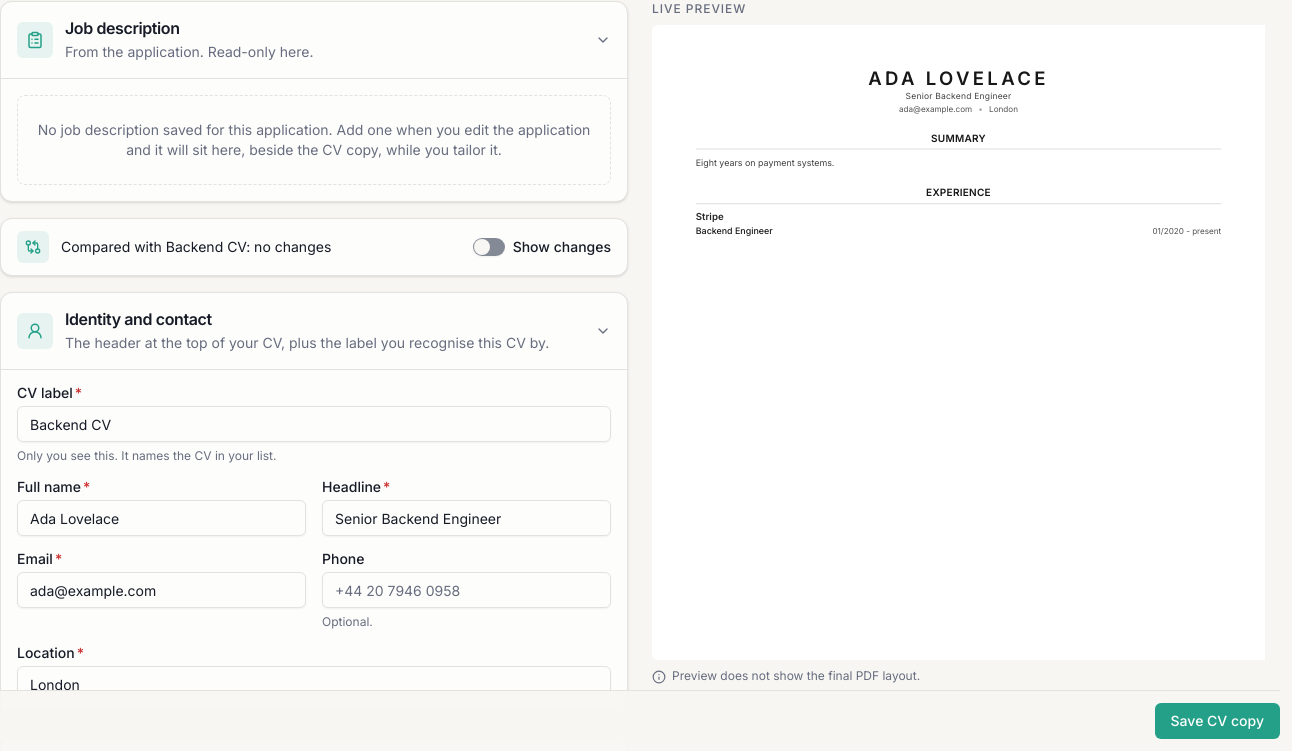
it: the diff UI › shows an Added badge for a new experience row and a section count
Click the switch named "Show changes": click(489, 247) top-left (473, 238), bottom-right (505, 256)
(page scrolled)
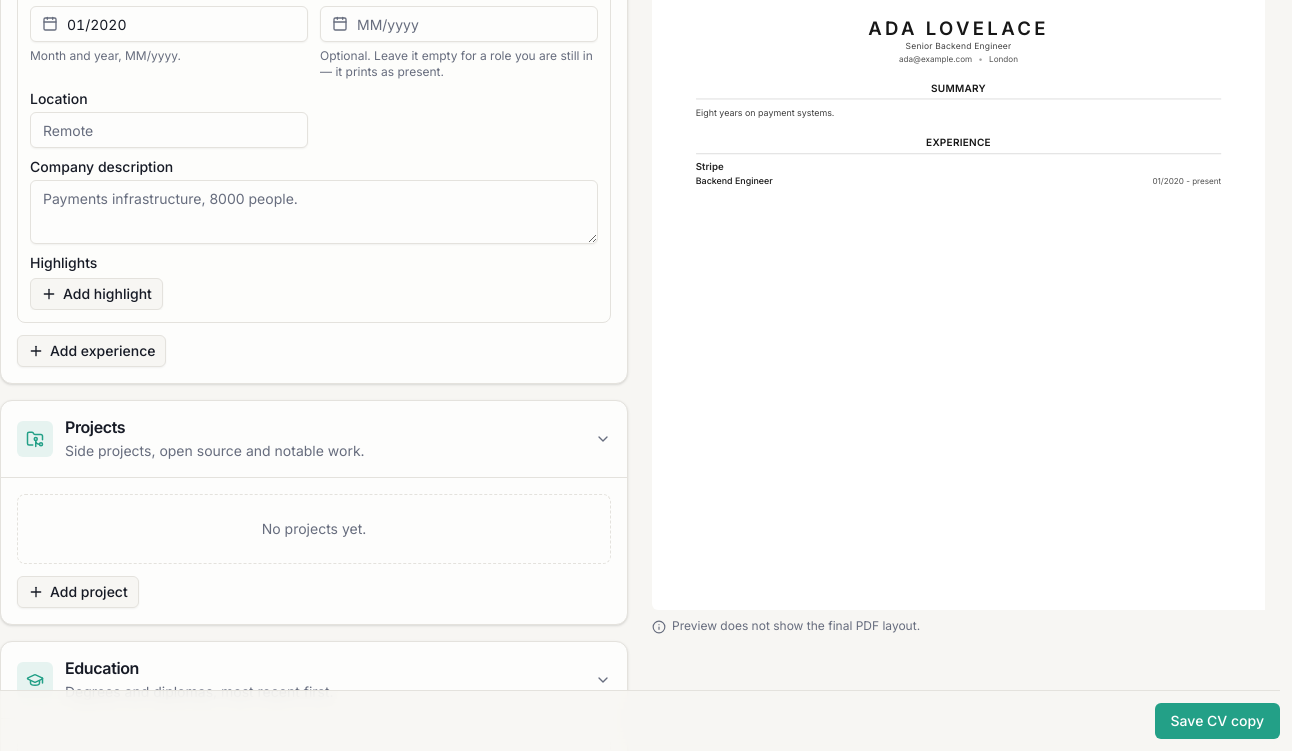
Click the button "Add experience": click(92, 351) top-left (17, 335), bottom-right (166, 367)
(page scrolled)
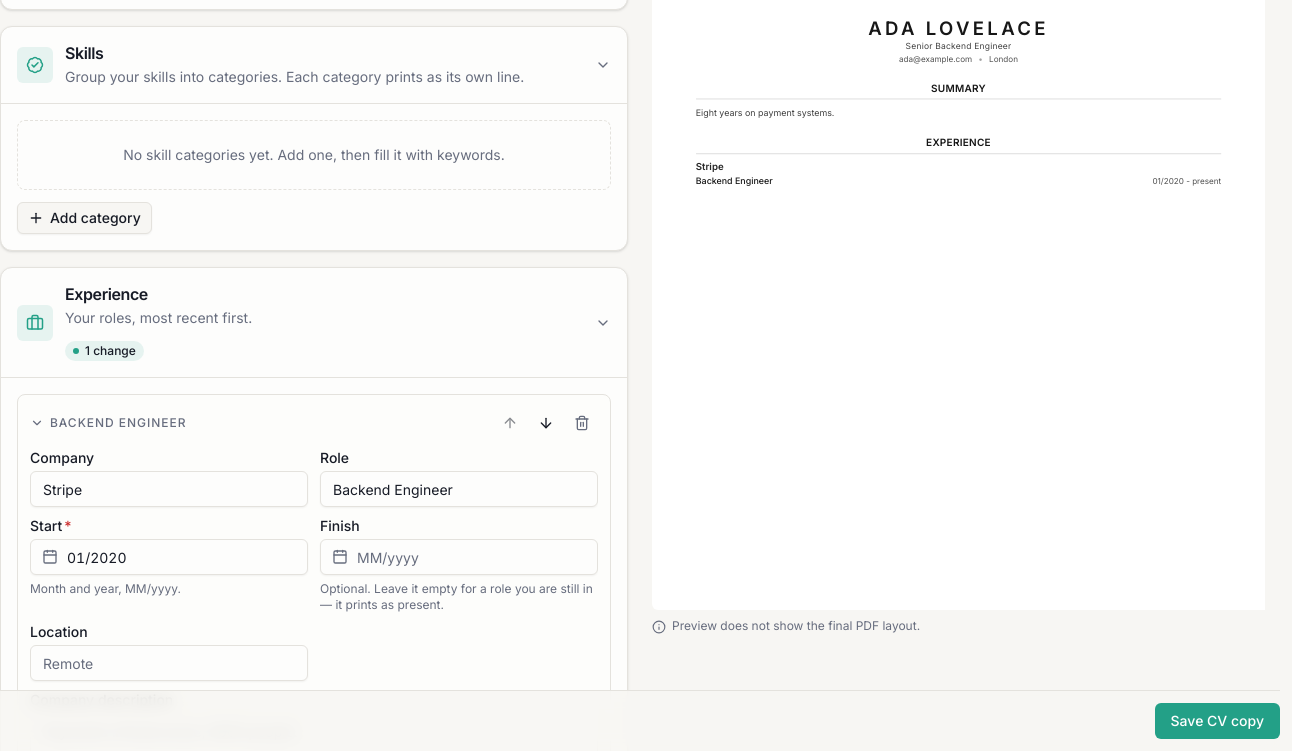
Now the text "1 change" is shown, box top-left (65, 341), bottom-right (144, 361)
